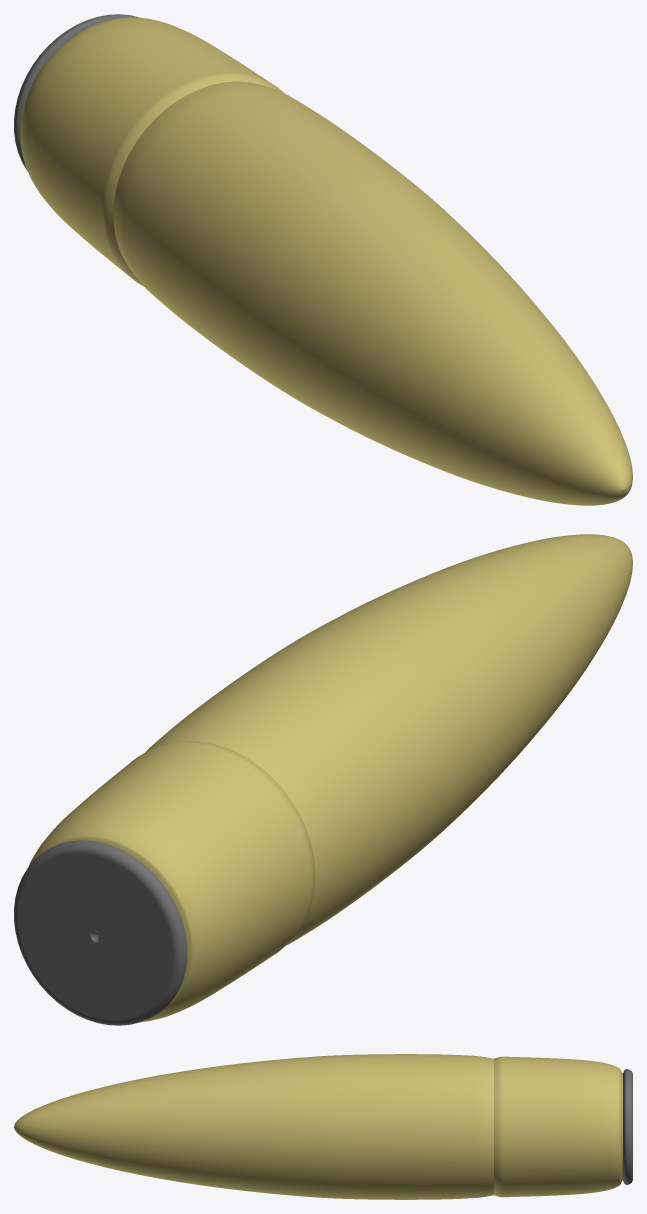
The model's file is projektil FBX.FBX.
3 renders of one model, top to bottom at view 1: azimuth 30°, elevation 25°; view 2: azimuth 150°, elevation 25°; view 3: azimuth 270°, elevation 25°, orthographic. The views are drawn at different scales.
Parts seen in each view (by area): view 1: Linie01; view 2: Linie01; view 3: Linie01.
Part boxes in pixels (x1,y1,x2,y2): Linie01: (14,14,632,505); Linie01: (14,534,632,1025); Linie01: (14,1054,632,1199).
Bounding box in the file's own units: 1.27 × 1.27 × 5.4.
